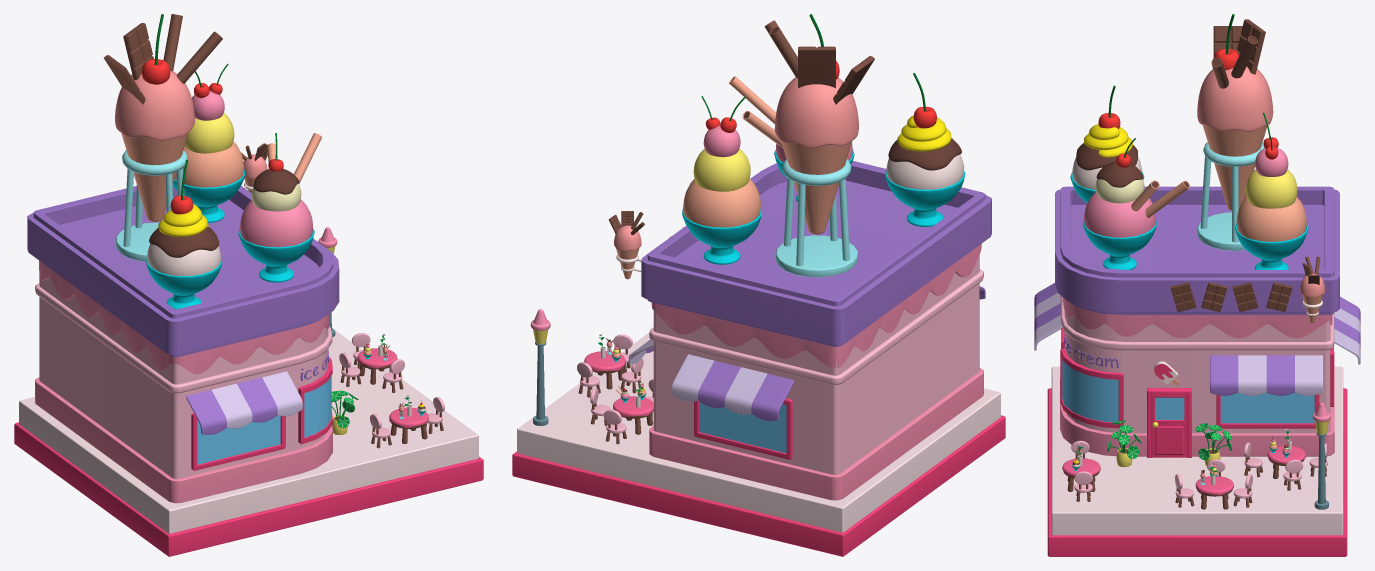
File: Store_Island_4.glb
3 renders of one model, left to right at view 1: azimuth 30°, elevation 25°; view 2: azimuth 150°, elevation 25°; view 3: azimuth 270°, elevation 25°, orthographic. The views are drawn at different scales.
Parts seen in each view (by area): view 1: Store_4_Ice_Cream_Shop_1, Store_4_Base_1, Store_4_Ice_Cream_8, Store_4_Ice_Cream_4, Store_4_Ice_Cream_5, Store_4_Ice_Cream_6, Store_4_Ice_Cream_Stand_2, Store_4_Table_3, Store_4_Cherry_1, Store_4_Ice_Cream_Logo_1, Store_4_Table_2, Store_4_Plant_2; view 2: Store_4_Ice_Cream_Shop_1, Store_4_Base_1, Store_4_Ice_Cream_8, Store_4_Ice_Cream_5, Store_4_Ice_Cream_6, Store_4_Ice_Cream_Stand_2, Store_4_Ice_Cream_Logo_1, Store_4_Ice_Cream_4, Store_4_Street_Lamp_1, Store_4_Table_1, Store_4_Table_2; view 3: Store_4_Ice_Cream_Shop_1, Store_4_Base_1, Store_4_Ice_Cream_8, Store_4_Ice_Cream_4, Store_4_Ice_Cream_5, Store_4_Ice_Cream_6, Store_4_Ice_Cream_Stand_2, Store_4_Ice_Cream_Logo_1, Store_4_Street_Lamp_1, Store_4_Plant_2, Store_4_Table_2, Store_4_Plant_1 (+10 smaller).
Part boxes in pixels (bbox=[...]): Store_4_Ice_Cream_Shop_1: bbox=[27, 185, 339, 503]; Store_4_Base_1: bbox=[14, 328, 483, 556]; Store_4_Ice_Cream_8: bbox=[104, 14, 222, 221]; Store_4_Ice_Cream_4: bbox=[238, 133, 321, 282]; Store_4_Ice_Cream_5: bbox=[173, 63, 245, 222]; Store_4_Ice_Cream_6: bbox=[146, 160, 222, 309]; Store_4_Ice_Cream_Stand_2: bbox=[115, 150, 187, 261]; Store_4_Table_3: bbox=[389, 407, 428, 443]; Store_4_Cherry_1: bbox=[141, 14, 170, 84]; Store_4_Ice_Cream_Logo_1: bbox=[241, 143, 267, 192]; Store_4_Table_2: bbox=[357, 348, 397, 384]; Store_4_Plant_2: bbox=[331, 390, 358, 434]; Store_4_Ice_Cream_Shop_1: bbox=[628, 161, 991, 500]; Store_4_Base_1: bbox=[512, 332, 1005, 556]; Store_4_Ice_Cream_8: bbox=[764, 20, 874, 234]; Store_4_Ice_Cream_5: bbox=[682, 96, 762, 264]; Store_4_Ice_Cream_6: bbox=[885, 73, 965, 226]; Store_4_Ice_Cream_Stand_2: bbox=[775, 159, 857, 277]; Store_4_Ice_Cream_Logo_1: bbox=[608, 211, 644, 279]; Store_4_Ice_Cream_4: bbox=[729, 76, 854, 201]; Store_4_Street_Lamp_1: bbox=[530, 309, 550, 425]; Store_4_Table_1: bbox=[613, 396, 653, 434]; Store_4_Table_2: bbox=[584, 351, 625, 389]; Store_4_Ice_Cream_Shop_1: bbox=[1034, 186, 1360, 457]; Store_4_Base_1: bbox=[1047, 366, 1347, 556]; Store_4_Ice_Cream_8: bbox=[1197, 19, 1273, 210]; Store_4_Ice_Cream_4: bbox=[1083, 138, 1190, 269]; Store_4_Ice_Cream_5: bbox=[1234, 112, 1308, 269]; Store_4_Ice_Cream_6: bbox=[1070, 85, 1144, 203]; Store_4_Ice_Cream_Stand_2: bbox=[1197, 142, 1264, 250]; Store_4_Ice_Cream_Logo_1: bbox=[1300, 256, 1324, 322]; Store_4_Street_Lamp_1: bbox=[1312, 402, 1330, 509]; Store_4_Plant_2: bbox=[1107, 420, 1141, 467]; Store_4_Table_2: bbox=[1195, 476, 1233, 509]; Store_4_Plant_1: bbox=[1195, 423, 1231, 465].
Size of the model in its own units: 11.85 by 16.2 by 10.97.
39 materials, 39 textured.
